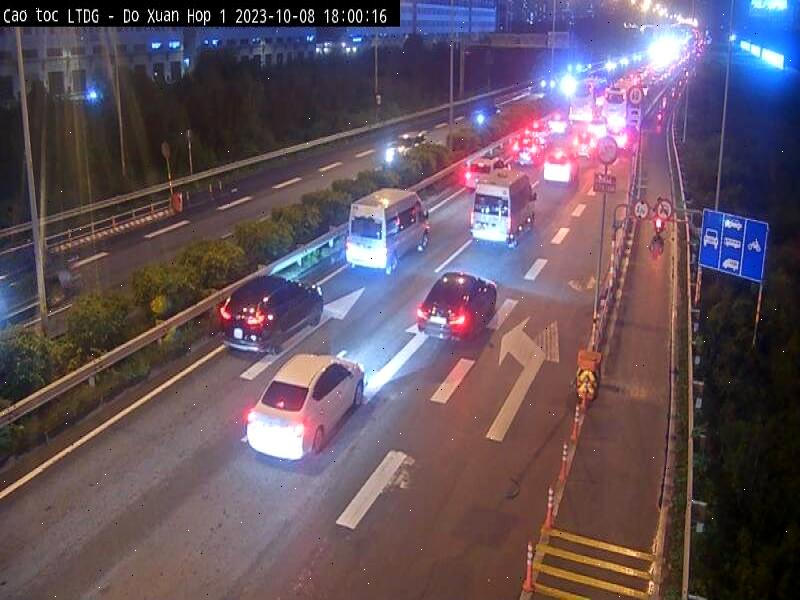car: (246, 354, 366, 460), (220, 274, 324, 356), (347, 190, 430, 275), (416, 272, 498, 344), (471, 172, 539, 248), (466, 158, 511, 192)
